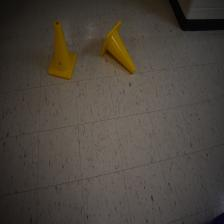cone: (100, 20, 136, 76), (48, 20, 76, 80)
